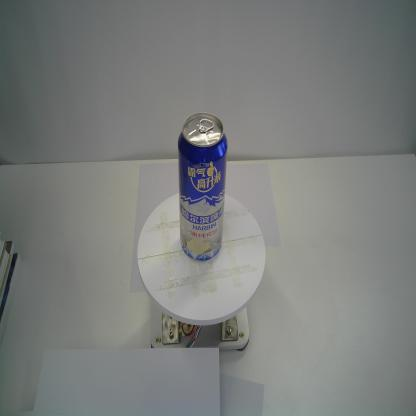Alcohol: (176, 112, 228, 262)
